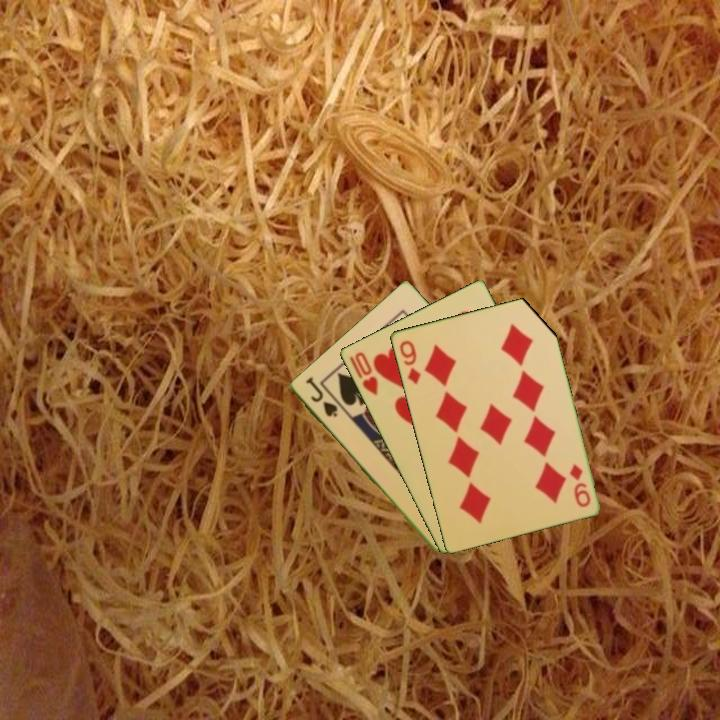10h: (345, 348, 381, 399)
9d: (395, 337, 424, 388), (566, 460, 593, 510)
Js: (302, 374, 340, 420)
